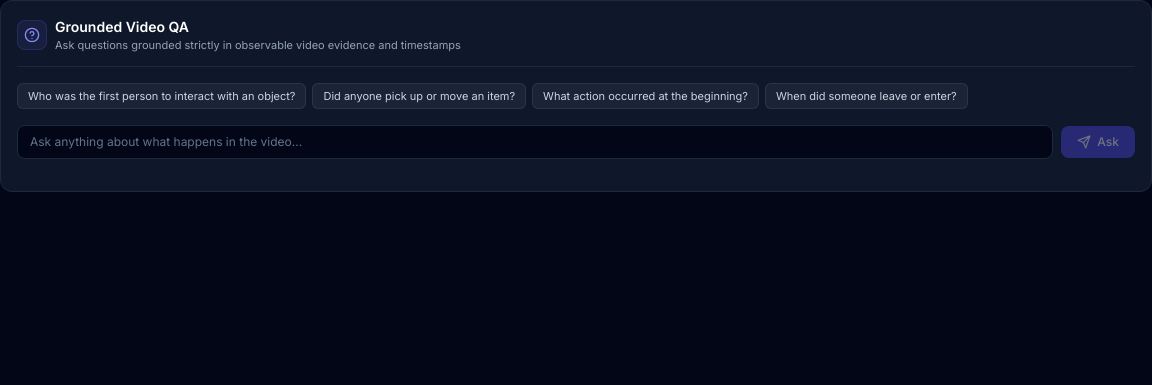
Test: Task 1.1: Grounded QA and Video Switching Component Regressions › 4. Previous QA answers do not appear when switching to a different video
The width and height of the screenshot is (1152, 385).
Type "Where is the cup?" into the field with test id "grounded-qa-input" at (535, 142), box [17,125,1053,159]
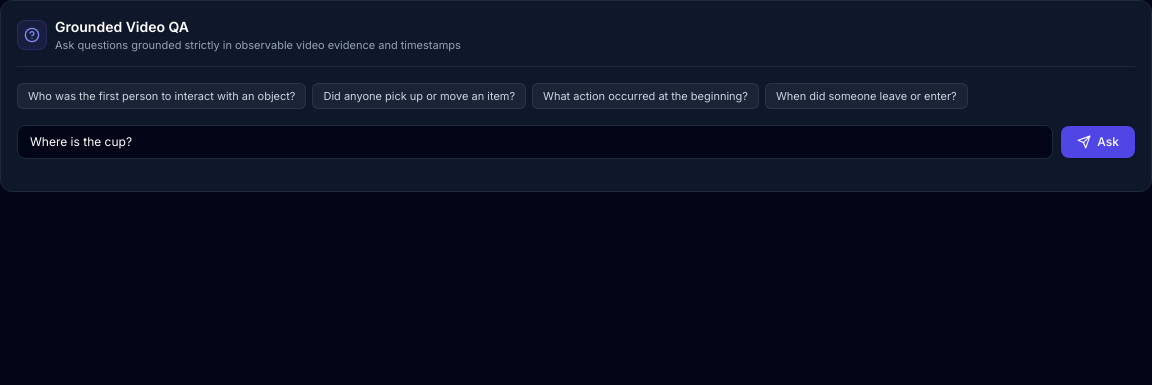
Click the button with test id "grounded-qa-ask-btn" at (1098, 142), box [1061,126,1135,158]
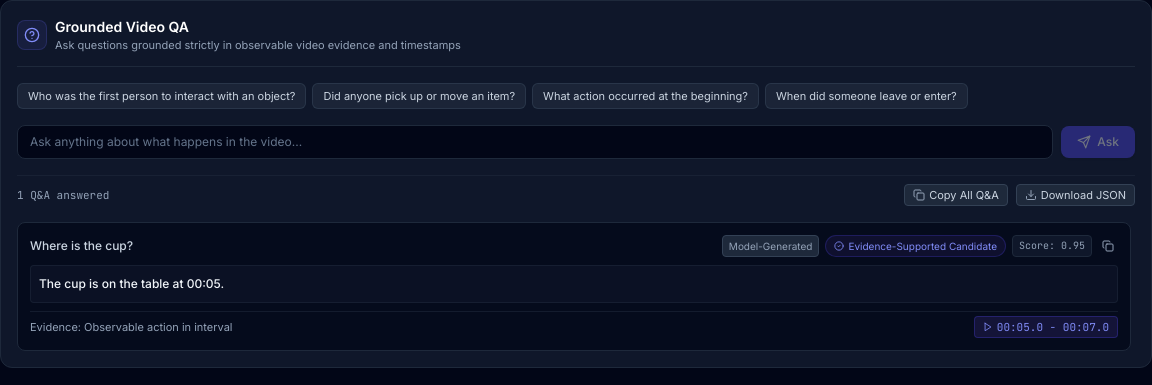
Check: the text "The cup is on the table at 00:05." is shown, box [30,265,1118,302]
